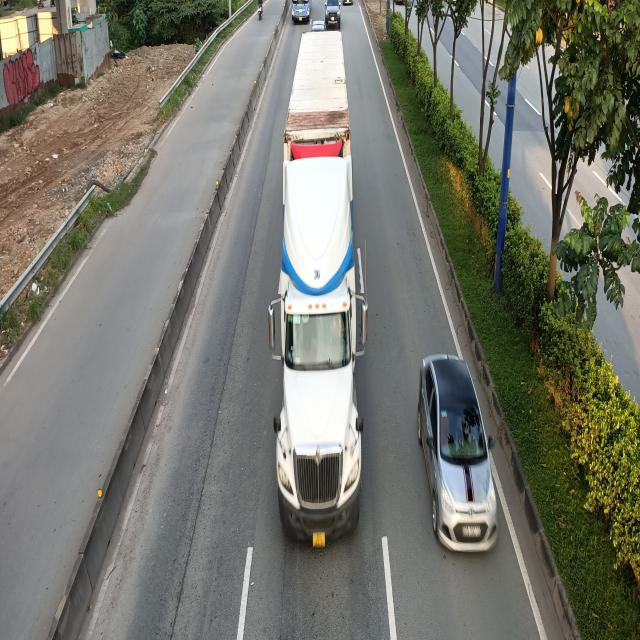car: (419, 351, 499, 551), (324, 0, 341, 29)
container: (268, 41, 368, 538)
